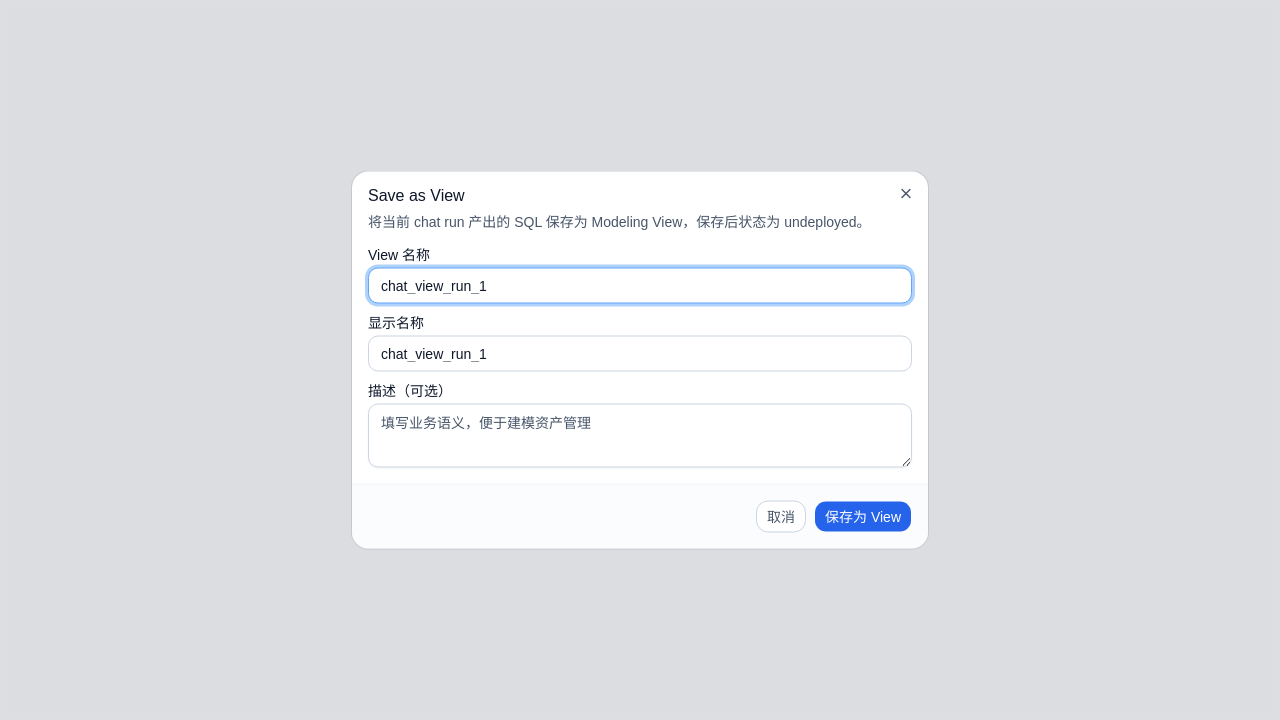
Test case: chat save-as-view dialog › keeps user input after conflict error for retry
This screenshot has width=1280, height=720.
Replace the text in the field labelled "View 名称" with "orders_recent_10": (640, 286) [368,268,912,304]
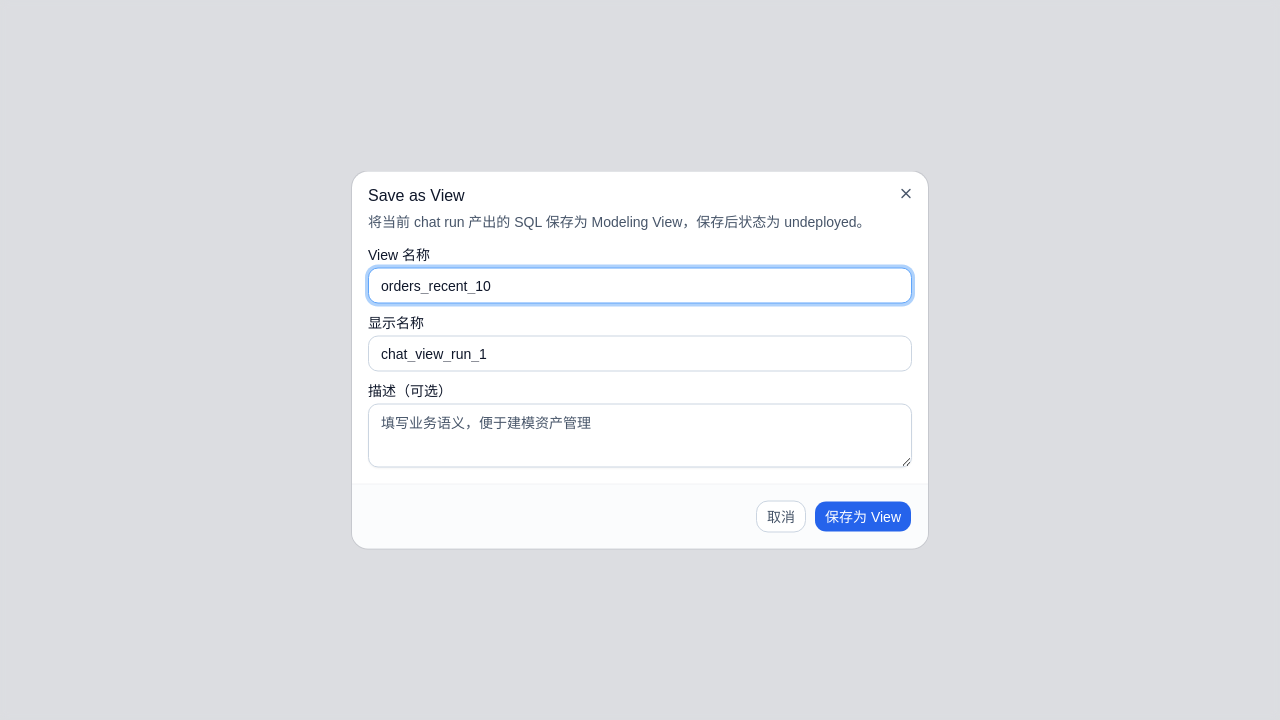
Click the button "保存为 View": (863, 516) [814,500,912,532]
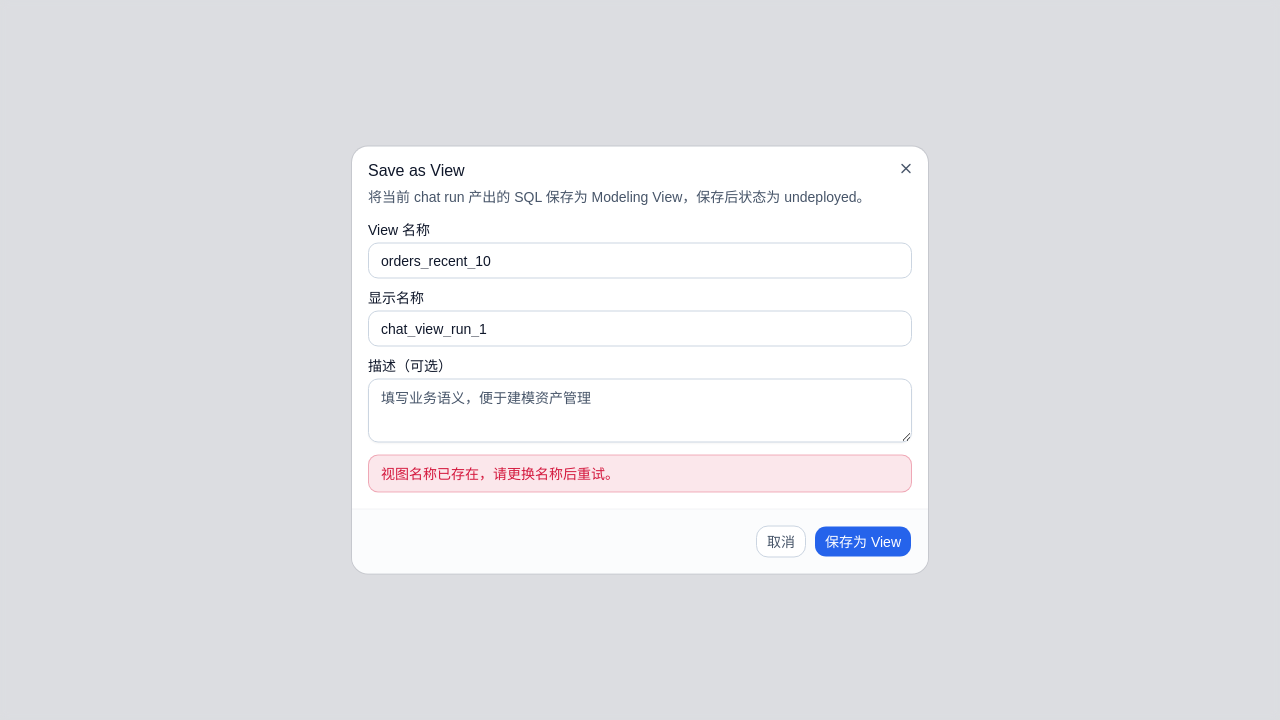
Expected: the text "视图名称已存在，请更换名称后重试。" is shown, [368,454,912,492]
Replace the text in the field labelled "View 名称" with "orders_recent_10_v2": (640, 260) [368,242,912,278]
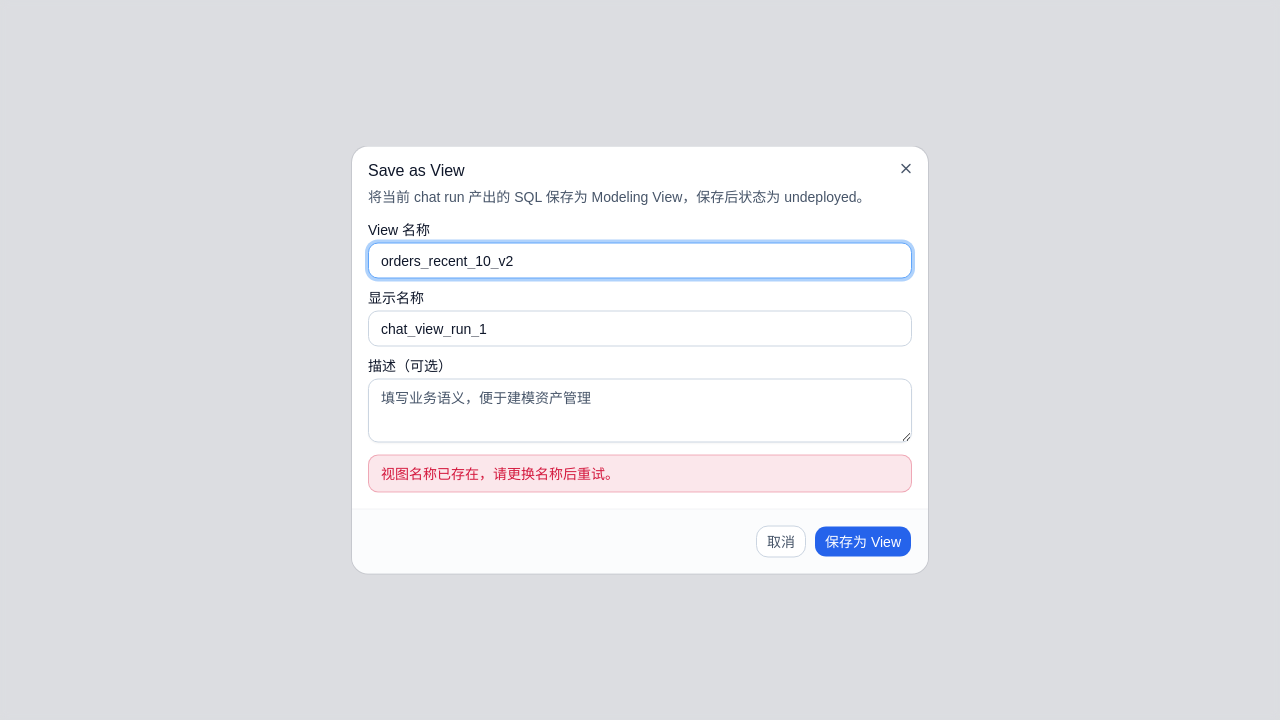
Click the button "保存为 View": (863, 542) [814,526,912,558]
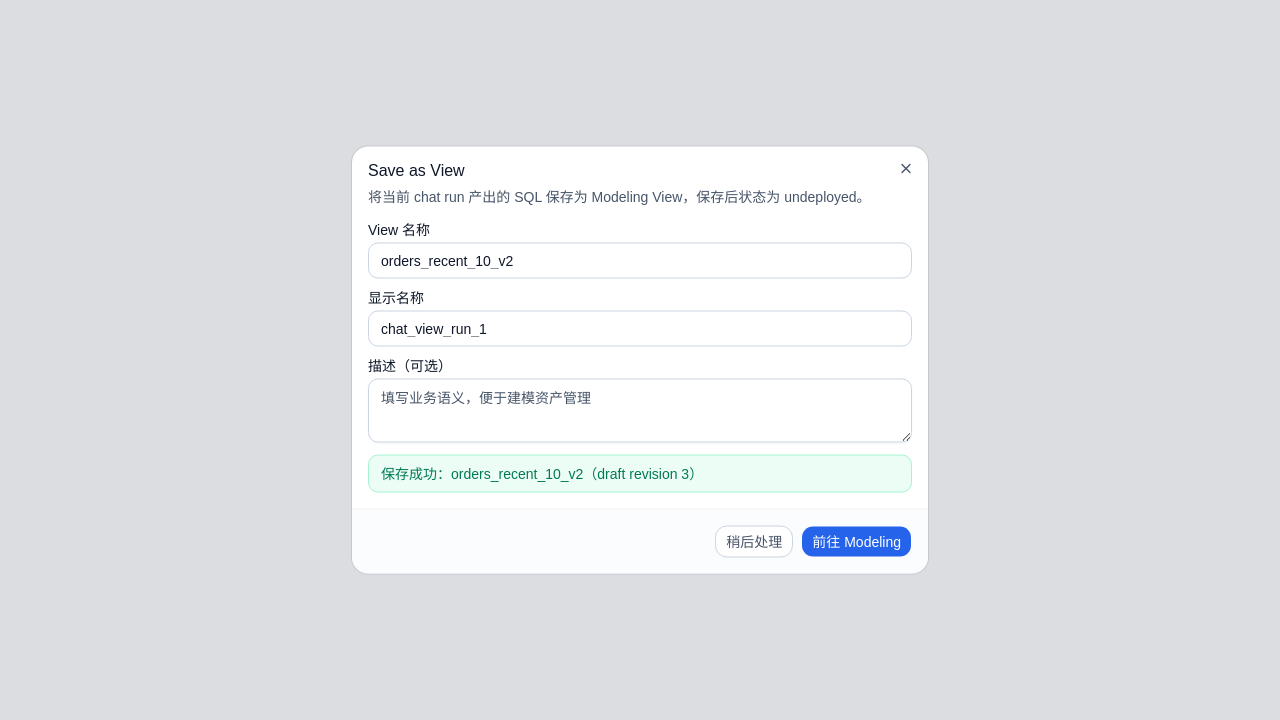
Expected: the text "保存成功：orders_recent_10_v2（draft revision 3）" is shown, [368,454,912,492]
